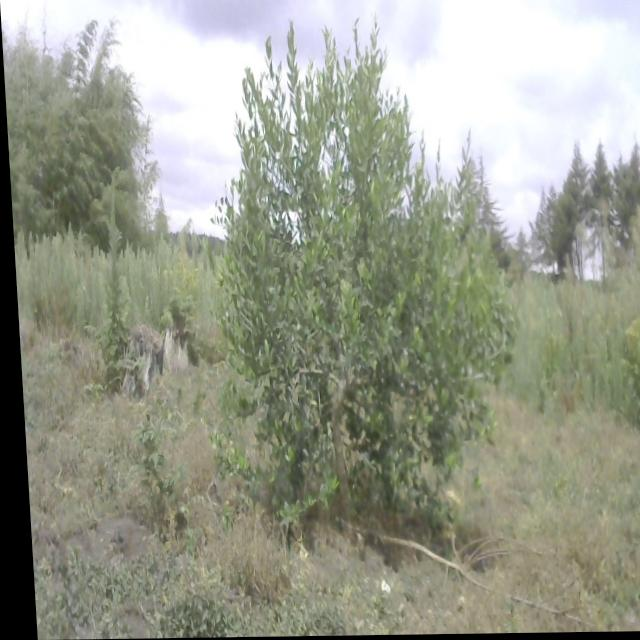Salix alba: (202, 17, 513, 529)
cedrus: (584, 133, 615, 252), (463, 155, 499, 250), (530, 176, 563, 265), (560, 141, 589, 242), (610, 147, 632, 230), (625, 133, 640, 229)
other: (1, 27, 145, 233)
